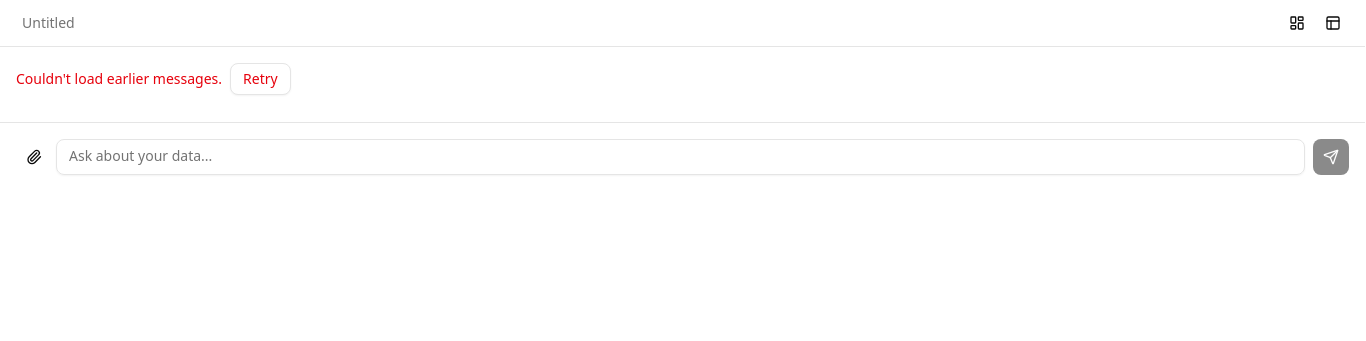
Test: a thread's history load › keeps a failed load's Retry through a turn sent meanwhile, then loads on Retry
The image size is (1366, 341).
expect the button with test id "chat-history-retry" is shown: met, box [230, 63, 291, 95]
Type "hi" into the text box at (680, 157), box [56, 139, 1305, 175]
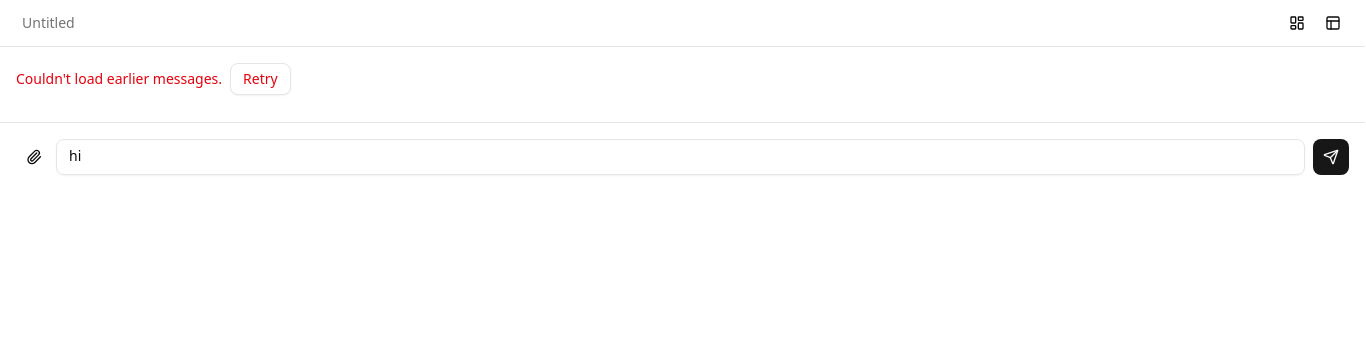
Click the button named "Send message" at (1331, 157), box [1313, 139, 1349, 175]
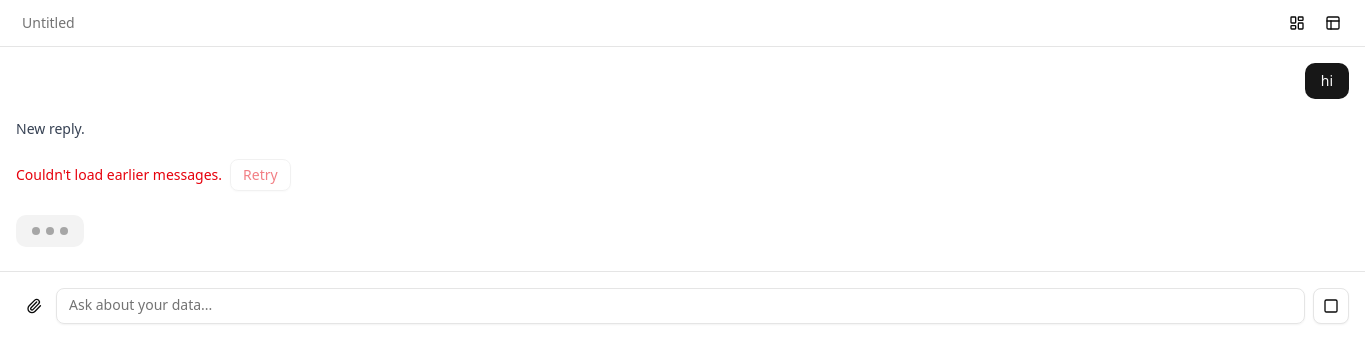
expect the text "New reply." is shown: met, box [16, 119, 85, 139]
expect the button with test id "chat-history-retry" is disabled: met
Click the button with test id "chat-history-retry" at (260, 175), box [230, 159, 291, 191]
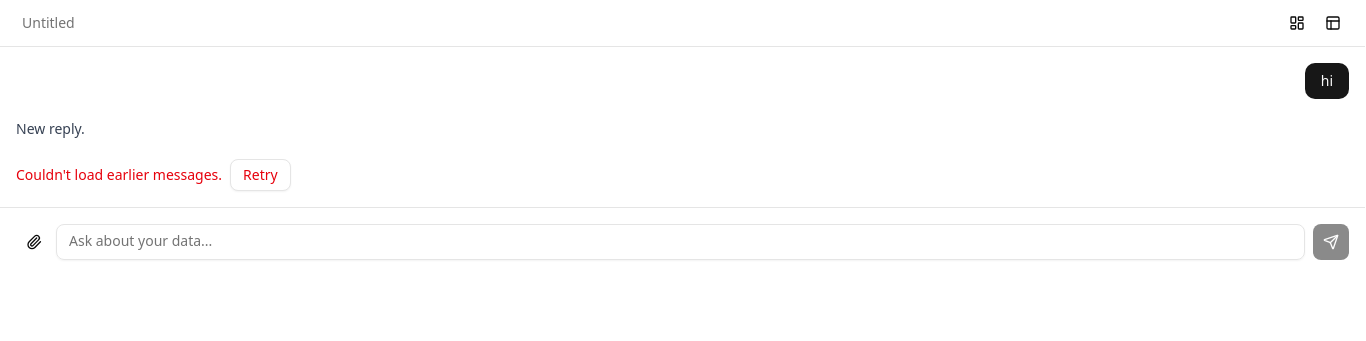
expect the text "Couldn't load earlier messages." is shown: met, box [16, 165, 222, 185]
expect the button with test id "chat-history-retry" is enabled: met
Click the button with test id "chat-history-retry" at (260, 175), box [230, 159, 291, 191]
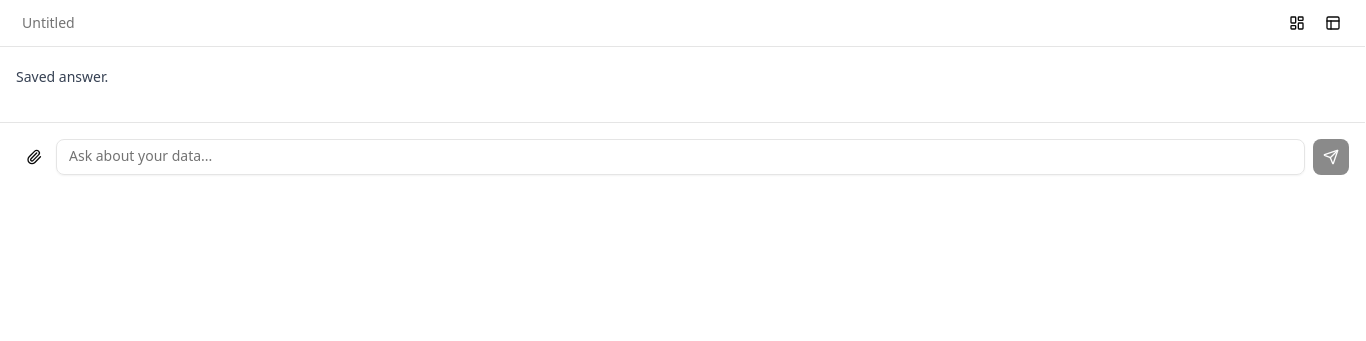
expect the text "Saved answer." is shown: met, box [16, 67, 108, 87]
